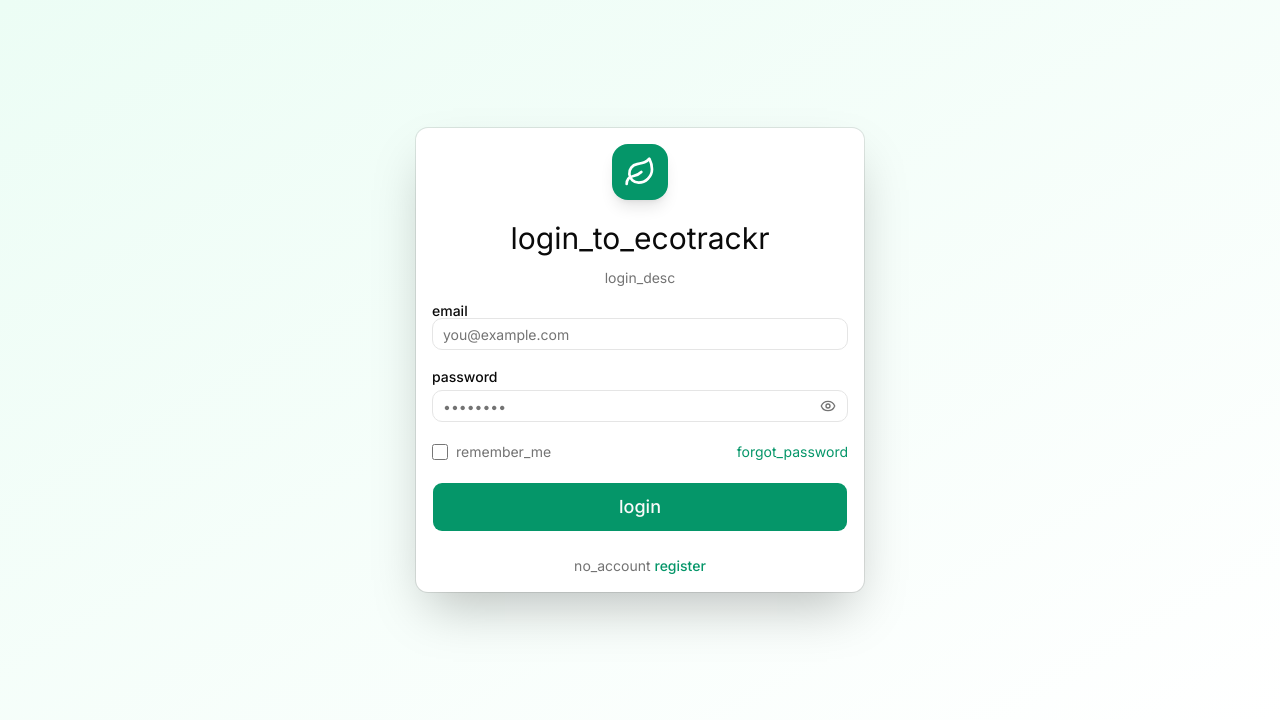
Test: LoginPage › shows a friendly message for network failures
Type "test@test.com" into the field labelled "email" at (640, 334), box [432,318,848,350]
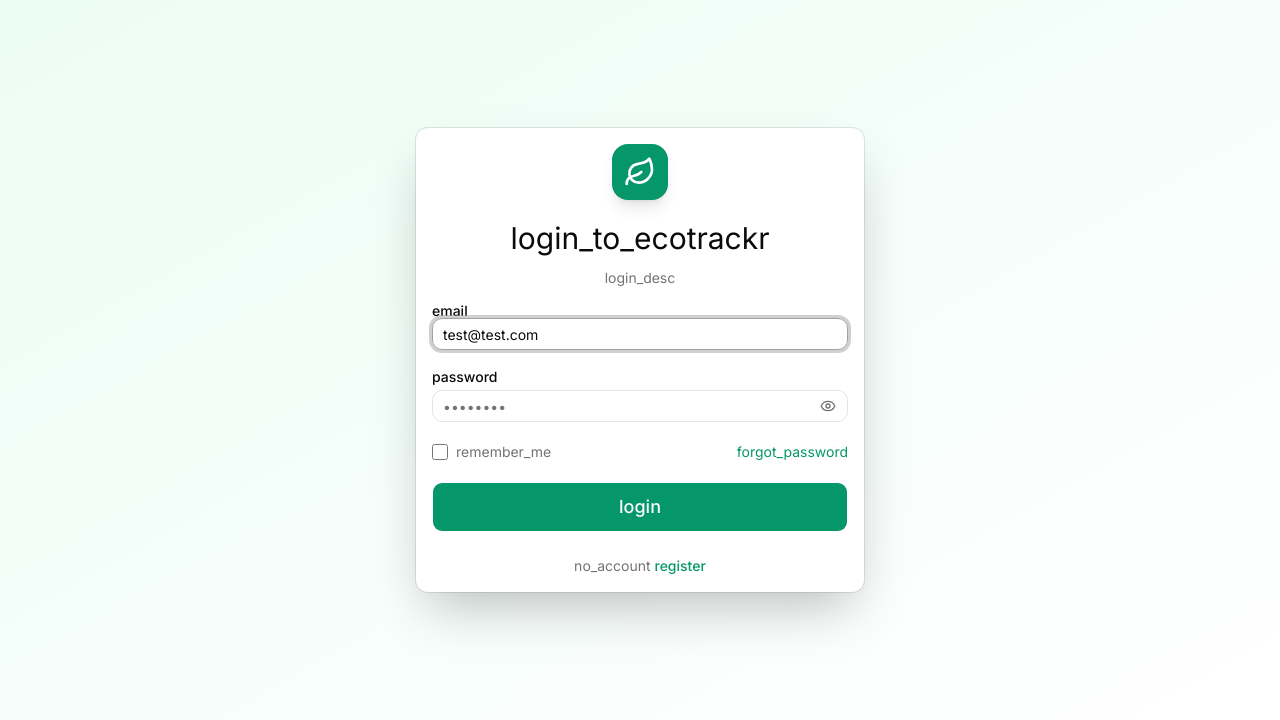
Type "password123" into the password field labelled "password" at (640, 406), box [432,390,848,422]
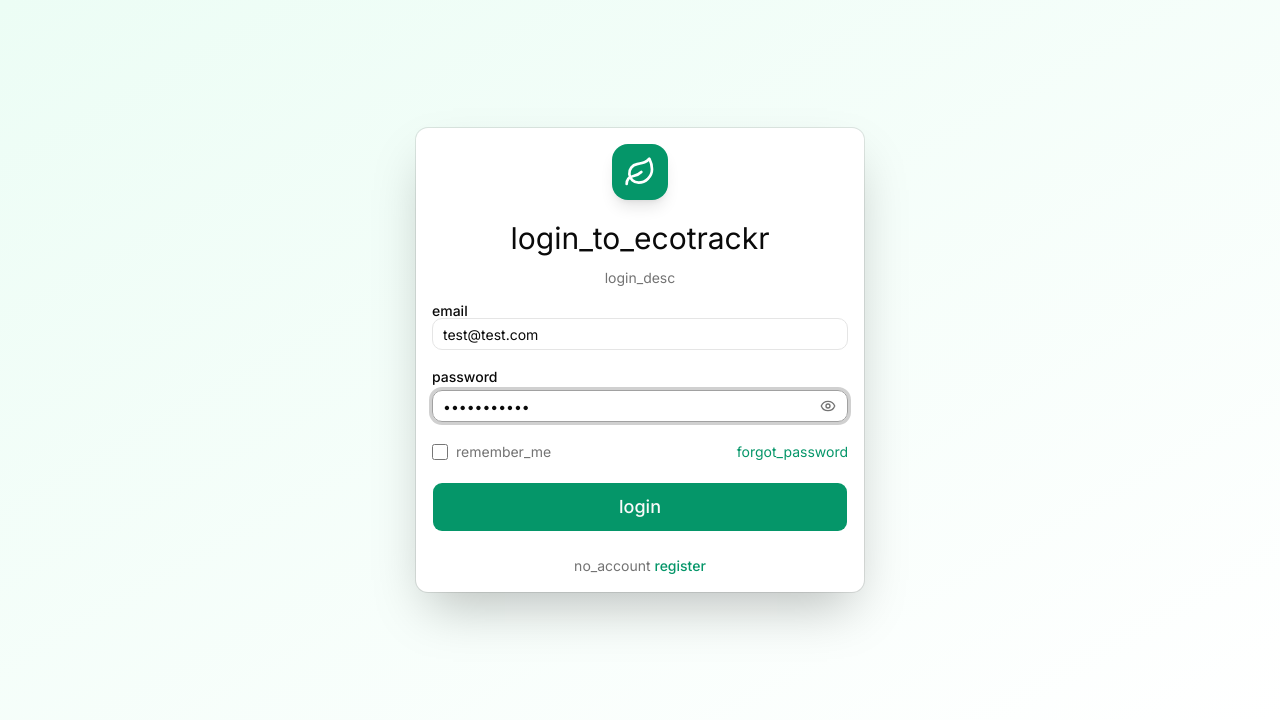
Click the button "login" at (640, 507), box [432,482,848,532]
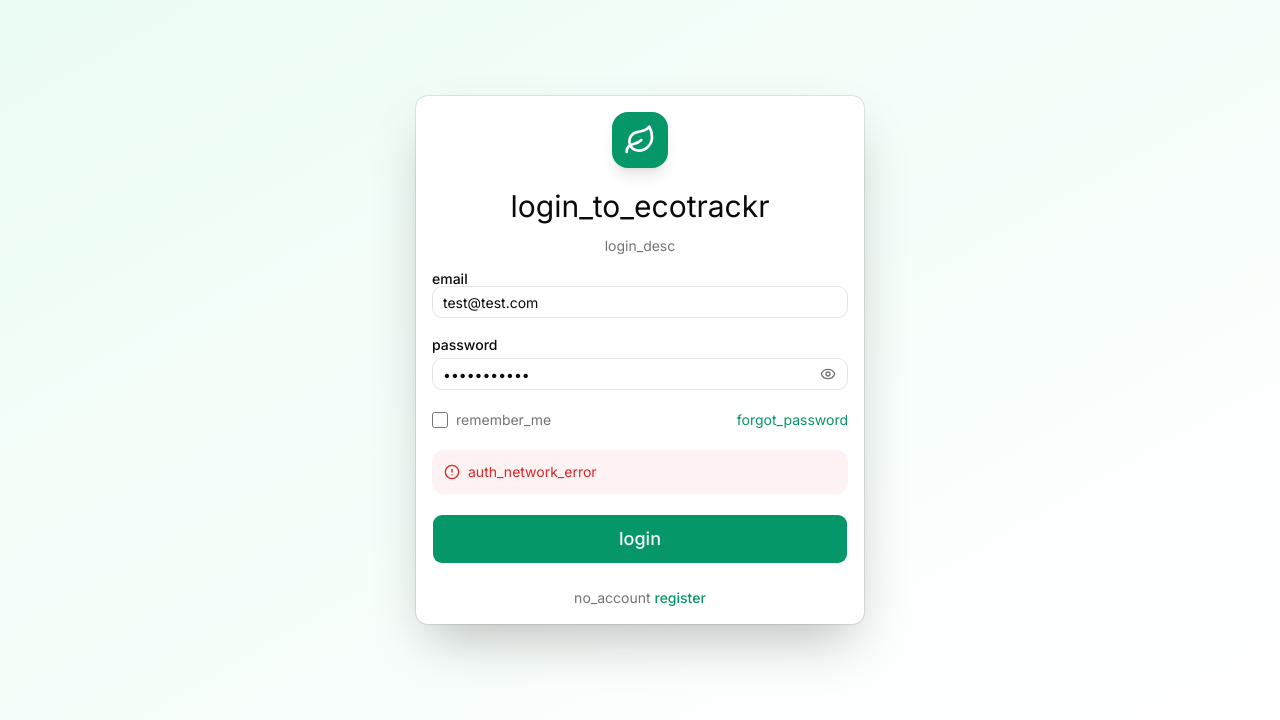
Expected: the text "auth_network_error" is shown, [468,462,597,482]
